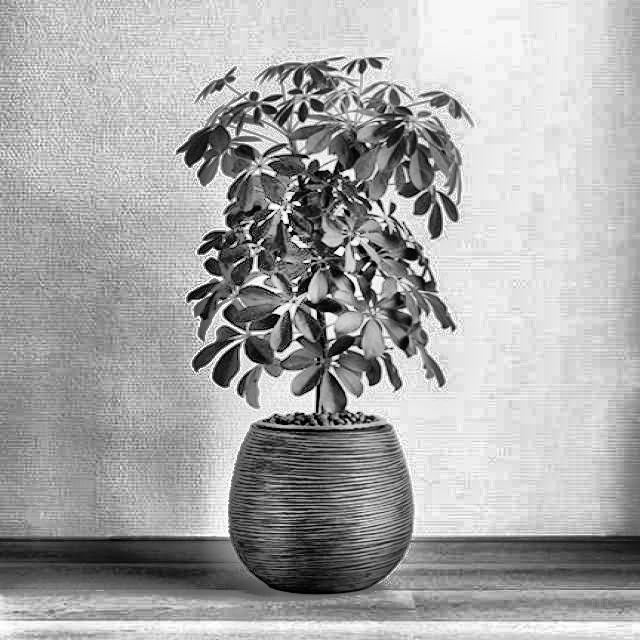plants: (180, 66, 470, 597)
